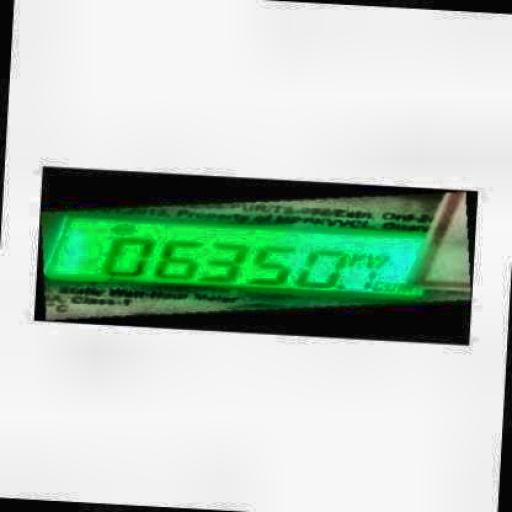DISPLAY_REGION: (43, 211, 438, 303)
SERIAL_REGION: (97, 235, 396, 292)
